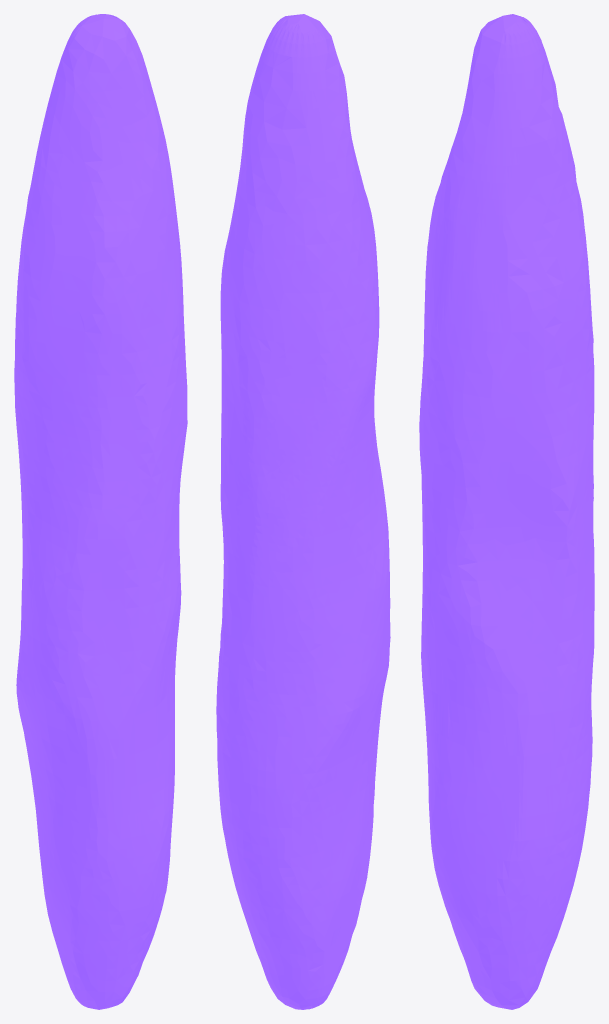
File: Shard5.fbx
3 views of the same model, side by side, from view 1: azimuth 30°, elevation 25°; view 2: azimuth 150°, elevation 25°; view 3: azimuth 270°, elevation 25° (orthographic).
Parts seen in each view (by area): view 1: Shard5; view 2: Shard5; view 3: Shard5.
Boxes of the visible parts, bbox=[...] form: Shard5: bbox=[14, 14, 187, 1009]; Shard5: bbox=[216, 14, 390, 1009]; Shard5: bbox=[419, 14, 594, 1009].
Size of the model in its own units: 190 by 1229 by 197.
